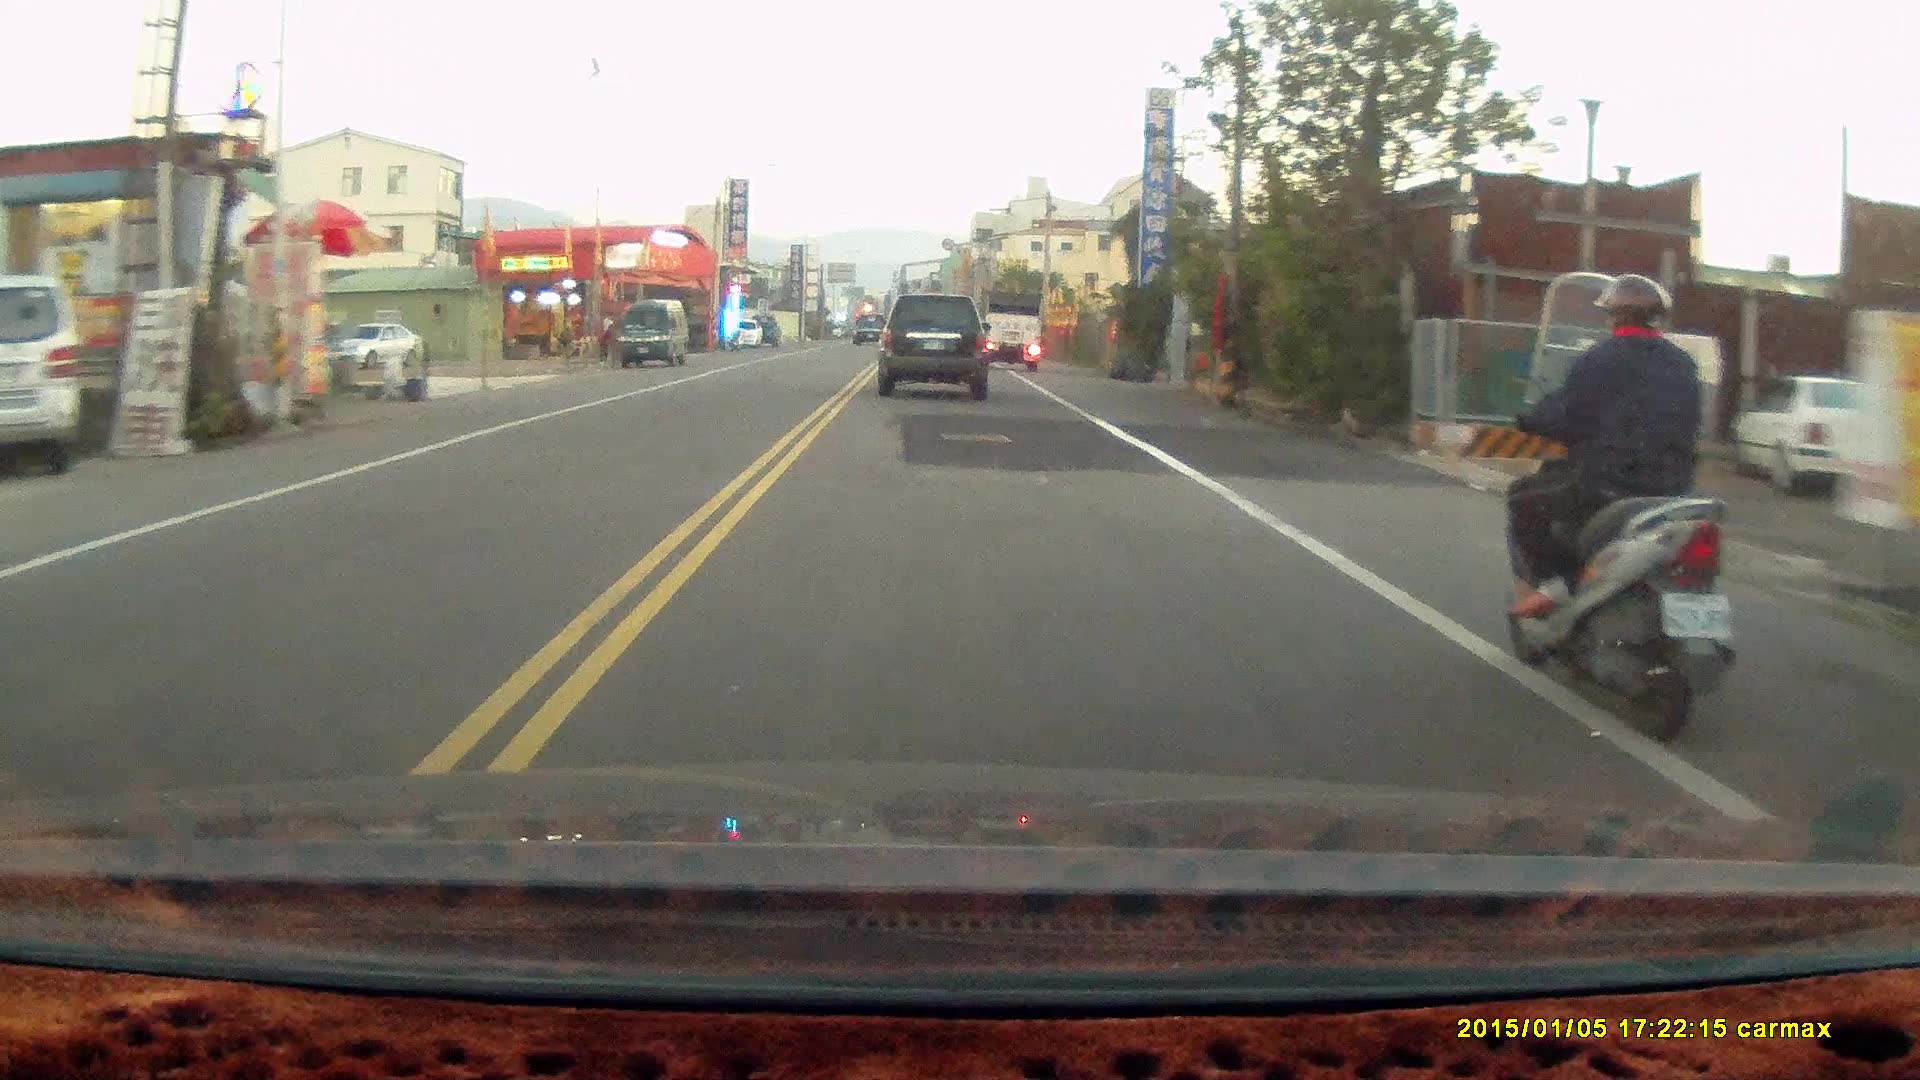rider: (1496, 267, 1737, 742)
vehicle: (1, 273, 87, 478), (879, 290, 993, 401), (983, 288, 1045, 370), (618, 299, 688, 369), (329, 322, 423, 370)
